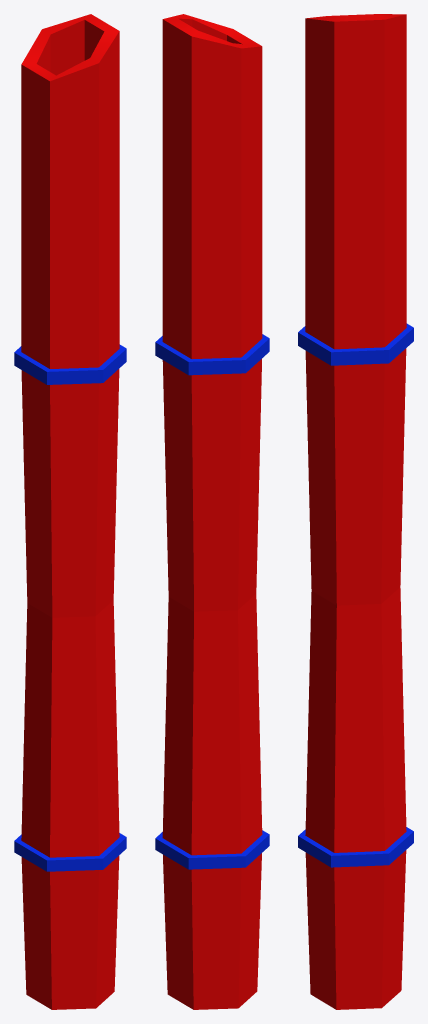
File: Bamboo_2.fbx
3 renders of one model, left to right at view 1: azimuth 30°, elevation 25°; view 2: azimuth 210°, elevation 25°; view 3: azimuth 270°, elevation 25°, orthographic. The views are drawn at different scales.
Visible parts, largest first — view 1: Bamboo_2; view 2: Bamboo_2; view 3: Bamboo_2.
Part boxes in pixels (x1=…): Bamboo_2: x1=14, y1=14, x2=126, y2=1009; Bamboo_2: x1=155, y1=14, x2=269, y2=1009; Bamboo_2: x1=298, y1=14, x2=413, y2=1009.
Bounding box in the file's own units: 19.75 × 205 × 21.76.
